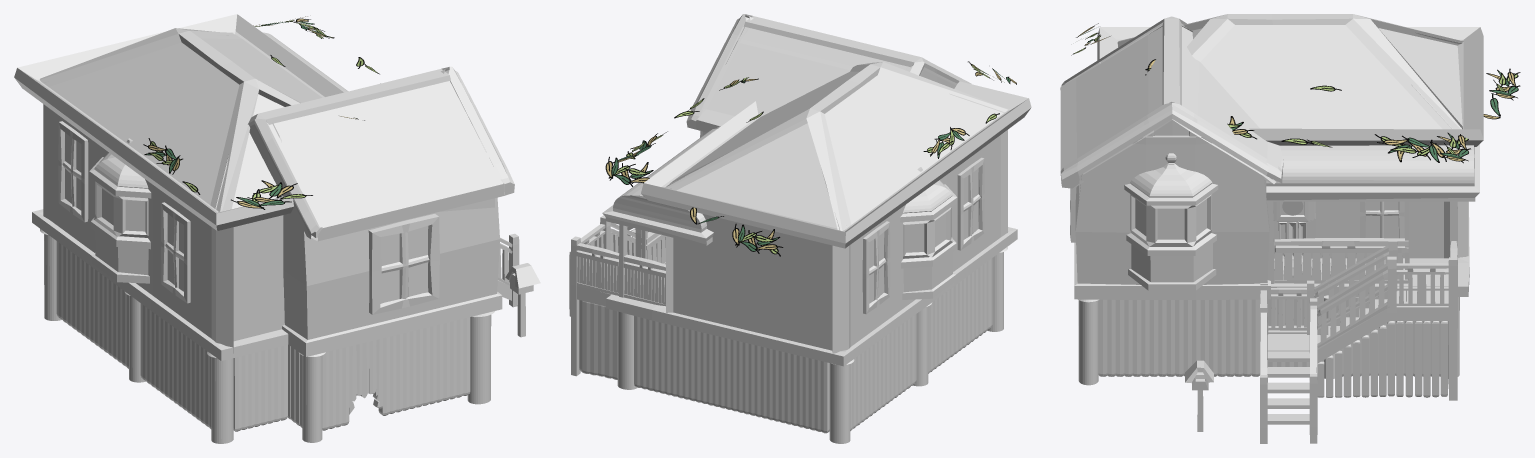
File: HouseFinalMaybeBorder.fbx
3 renders of one model, left to right at view 1: azimuth 30°, elevation 25°; view 2: azimuth 150°, elevation 25°; view 3: azimuth 270°, elevation 25°, orthographic. The views are drawn at different scales.
Visible parts, largest first — view 1: MainHouse, MainHousePt2, Outcrop1.001, Cube, Window1.003, Cube.037, Cube.029, Cube.022, Window1.001, Cube.053, Post6, Window1.002 (+9 smaller); view 2: MainHouse, Cube.030, MainHousePt2, Outcrop1.001, Cube.037, Cube.029, Railing7, Awning, Window1.001, Post5, Window1.002, Cube.025 (+9 smaller); view 3: MainHouse, MainHousePt2, Cube.002, Awning, Outcrop1, Railing8, Railing6, Cube.025, StairsBase, Stairs1, Railing1, Post2 (+20 smaller).
Part boxes in pixels (left/top/right/bottom): MainHouse: left=14, top=14, right=343, bottom=360; MainHousePt2: left=248, top=66, right=514, bottom=356; Outcrop1.001: left=89, top=138, right=151, bottom=283; Cube: left=389, top=317, right=470, bottom=413; Window1.003: left=368, top=214, right=439, bottom=314; Cube.037: left=56, top=241, right=128, bottom=368; Cube.029: left=140, top=303, right=211, bottom=429; Cube.022: left=233, top=345, right=287, bottom=431; Window1.001: left=58, top=121, right=88, bottom=222; Cube.053: left=322, top=346, right=349, bottom=430; Post6: left=207, top=351, right=233, bottom=443; Window1.002: left=161, top=202, right=190, bottom=303; MainHouse: left=606, top=62, right=1031, bottom=366; Cube.030: left=634, top=316, right=829, bottom=433; MainHousePt2: left=686, top=14, right=971, bottom=137; Outcrop1.001: left=900, top=167, right=957, bottom=299; Cube.037: left=850, top=314, right=916, bottom=430; Cube.029: left=928, top=258, right=992, bottom=373; Railing7: left=576, top=224, right=665, bottom=306; Awning: left=602, top=126, right=720, bottom=245; Window1.001: left=862, top=221, right=890, bottom=313; Post5: left=829, top=359, right=854, bottom=443; Window1.002: left=957, top=157, right=984, bottom=250; Cube.025: left=571, top=224, right=605, bottom=376; MainHouse: left=1097, top=14, right=1483, bottom=296; MainHousePt2: left=1060, top=16, right=1283, bottom=299; Cube.002: left=1098, top=297, right=1440, bottom=376; Awning: left=1266, top=144, right=1479, bottom=201; Outcrop1: left=1124, top=153, right=1218, bottom=290; Railing8: left=1267, top=201, right=1408, bottom=283; Railing6: left=1309, top=256, right=1396, bottom=366; Cube.025: left=1396, top=257, right=1457, bottom=400; StairsBase: left=1268, top=287, right=1448, bottom=363; Stairs1: left=1267, top=351, right=1309, bottom=424; Railing1: left=1307, top=239, right=1397, bottom=334; Post2: left=1078, top=299, right=1098, bottom=385.
Bounding box in the file's own units: 2091 × 1547 × 2193.
